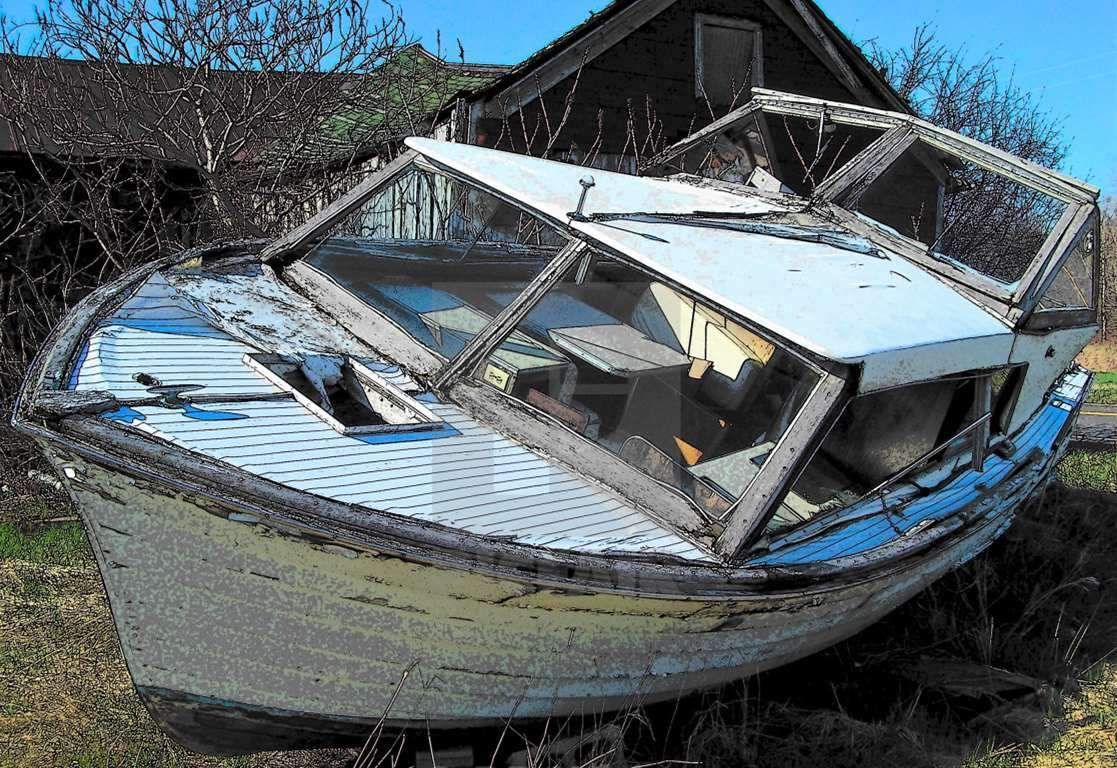boat_cabin: (1, 70, 1117, 760)
